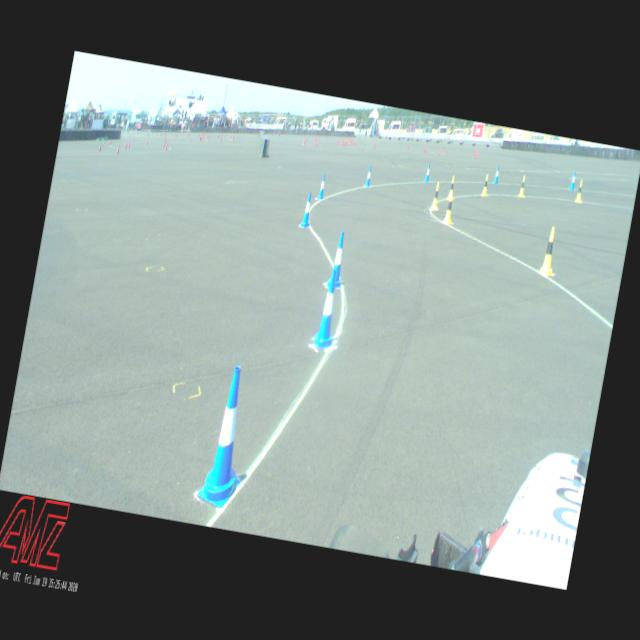blue_cone: (196, 362, 258, 509), (312, 267, 344, 349), (326, 230, 350, 290), (300, 190, 314, 228), (318, 173, 328, 199), (364, 165, 372, 186), (568, 170, 576, 190), (423, 164, 431, 182), (493, 165, 500, 183)
unknown_cone: (126, 140, 130, 150), (162, 138, 166, 148), (164, 141, 168, 151), (438, 146, 442, 156), (116, 144, 120, 153), (98, 142, 102, 150), (124, 140, 128, 148), (348, 138, 352, 146), (474, 150, 478, 158), (108, 138, 111, 148), (474, 148, 477, 158), (218, 135, 222, 142), (228, 133, 232, 140), (424, 144, 427, 153), (314, 140, 318, 146), (145, 138, 148, 145), (406, 142, 409, 149), (163, 132, 166, 138), (173, 130, 176, 136), (200, 134, 203, 140), (205, 133, 208, 139), (348, 136, 351, 142), (352, 138, 354, 146), (446, 144, 448, 152), (172, 136, 175, 141), (424, 145, 426, 152), (132, 136, 134, 143), (188, 135, 190, 142), (304, 138, 306, 145), (344, 137, 346, 144), (345, 139, 347, 146), (355, 139, 357, 146), (156, 130, 158, 136), (160, 130, 162, 136), (162, 130, 165, 134), (175, 132, 178, 136), (187, 132, 189, 138), (206, 134, 208, 140), (200, 132, 202, 138), (216, 132, 218, 138), (240, 130, 242, 136), (306, 134, 308, 140), (314, 136, 316, 142), (315, 136, 317, 142), (336, 138, 338, 144), (341, 139, 343, 145), (343, 140, 345, 146), (350, 136, 352, 142), (374, 142, 376, 148), (232, 135, 234, 140), (198, 132, 200, 137), (316, 137, 318, 142), (342, 135, 344, 140), (238, 130, 240, 134), (272, 131, 274, 135), (280, 133, 282, 137), (285, 132, 287, 136), (303, 138, 305, 142), (314, 134, 316, 138), (202, 130, 204, 134), (222, 130, 223, 135), (338, 140, 339, 144), (220, 130, 221, 134)
yellow_cone: (538, 225, 560, 274), (442, 192, 456, 223), (429, 181, 442, 210), (446, 174, 456, 200), (480, 174, 490, 196), (575, 179, 584, 201), (518, 174, 526, 197)
